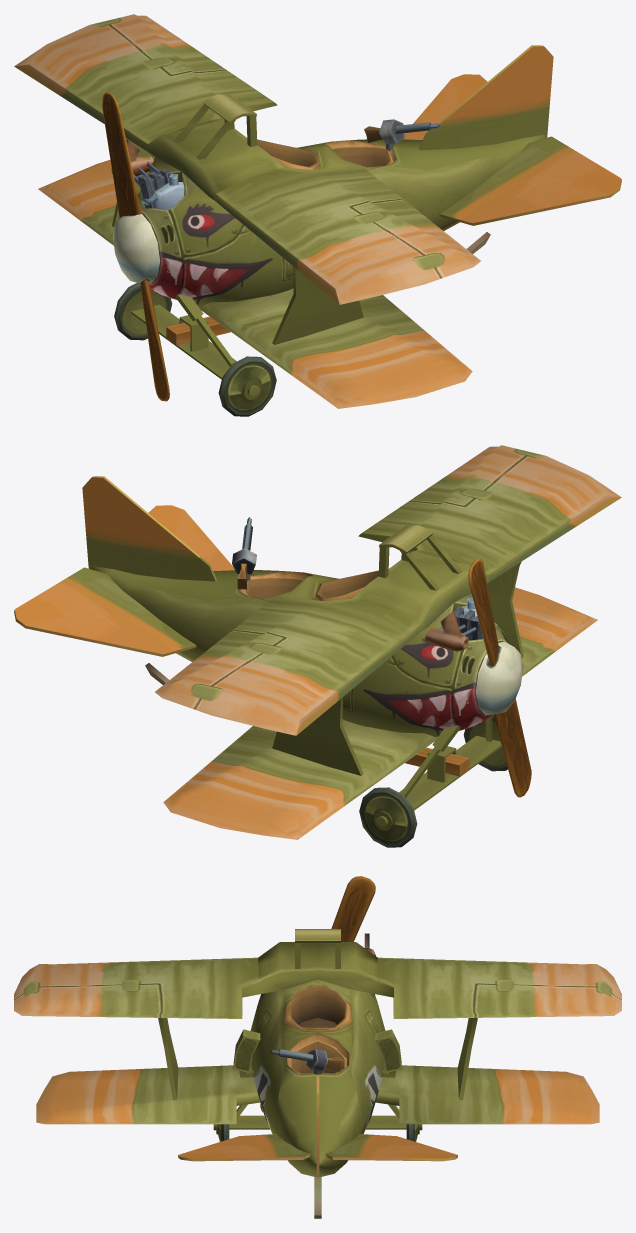
The model's file is bomb_shark.glb.
3 views of the same model, one above another, from view 1: azimuth 30°, elevation 25°; view 2: azimuth 150°, elevation 25°; view 3: azimuth 270°, elevation 25° (orthographic). The views are drawn at different scales.
Parts seen in each view (by area): view 1: MainBody_Texture_0; view 2: MainBody_Texture_0; view 3: MainBody_Texture_0.
Boxes of the visible parts, x1,y1,x2,y2 form: MainBody_Texture_0: (14, 14, 621, 416); MainBody_Texture_0: (14, 445, 621, 847); MainBody_Texture_0: (14, 876, 621, 1218).
Bounding box in the file's own units: 161 × 100 × 222.
1 material, 1 textured.
